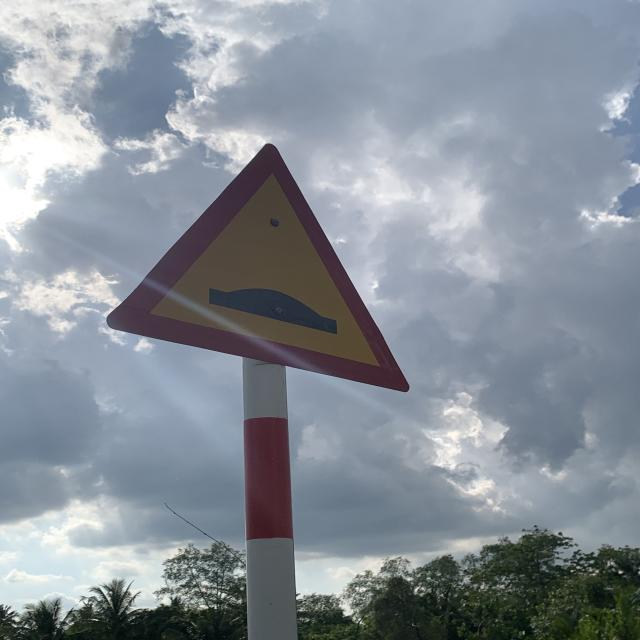Duong_Cong_Ben_Phai: (105, 144, 412, 394)
